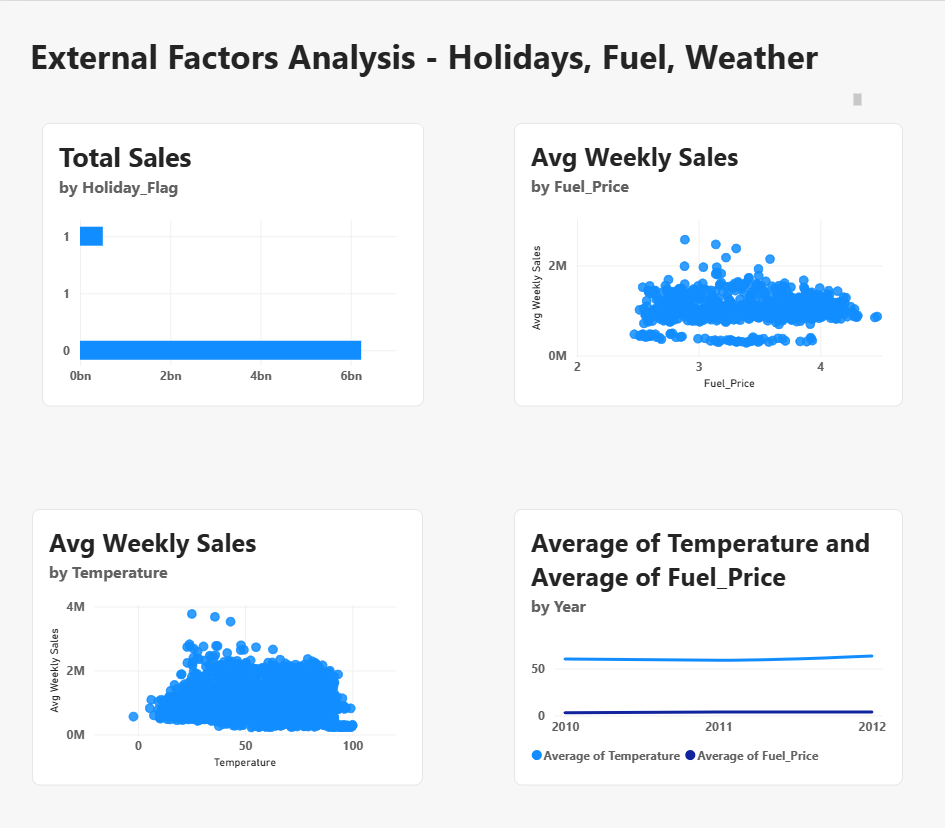

Layout of this report page (visuals, bound fields, positions):
{"tool":"powerbi","page":{"name":"External factors","canvas":[1920,1080],"ordinal":1},"visuals":[{"type":"textbox","title":"External Factors Analysis - Holidays, Fuel, Weather","box":[32.8,32.8,831.7,72.6],"z":0},{"type":"clusteredBarChart","fields":{"Category":["Walmart_Sales.Holiday_Flag"],"Y":["Walmart_Sales.Total Sales"]},"box":[9.4,121.8,381.9,283.5],"z":1},{"type":"scatterChart","fields":{"X":["Walmart_Sales.Fuel_Price"],"Y":["Walmart_Sales.Avg Weekly Sales"]},"box":[515.4,121.8,388.9,283.5],"z":2},{"type":"scatterChart","fields":{"X":["Walmart_Sales.Temperature"],"Y":["Walmart_Sales.Avg Weekly Sales"]},"box":[0,508.4,391.2,276.4],"z":3},{"type":"lineChart","fields":{"Category":["Walmart_Sales.Date.Variation.Date Hierarchy.Year","Walmart_Sales.Date.Variation.Date Hierarchy.Quarter","Walmart_Sales.Date.Variation.Date Hierarchy.Month","Walmart_Sales.Date.Variation.Date Hierarchy.Day"],"Y":["Avg(Walmart_Sales.Temperature)","Avg(Walmart_Sales.Fuel_Price)"]},"box":[515.4,508.4,388.9,276.4],"z":4}]}

Visuals, with their boxes on the page's 1920x1080 design canvas (x1, y1, x2, y2). These are canvas units, not pixel positions in the 945x828 screenshot, which may show the page scaled, cropped or inside an application window:
"External Factors Analysis - Holidays, Fuel, Weather" textbox: bbox(33, 33, 864, 105)
clusteredBarChart - Walmart_Sales.Holiday_Flag x Walmart_Sales.Total Sales: bbox(9, 122, 391, 405)
scatterChart - Walmart_Sales.Fuel_Price x Walmart_Sales.Avg Weekly Sales: bbox(515, 122, 904, 405)
scatterChart - Walmart_Sales.Temperature x Walmart_Sales.Avg Weekly Sales: bbox(0, 508, 391, 785)
lineChart - Walmart_Sales.Date.Variation.Date Hierarchy.Year x Walmart_Sales.Date.Variation.Date Hierarchy.Quarter: bbox(515, 508, 904, 785)
